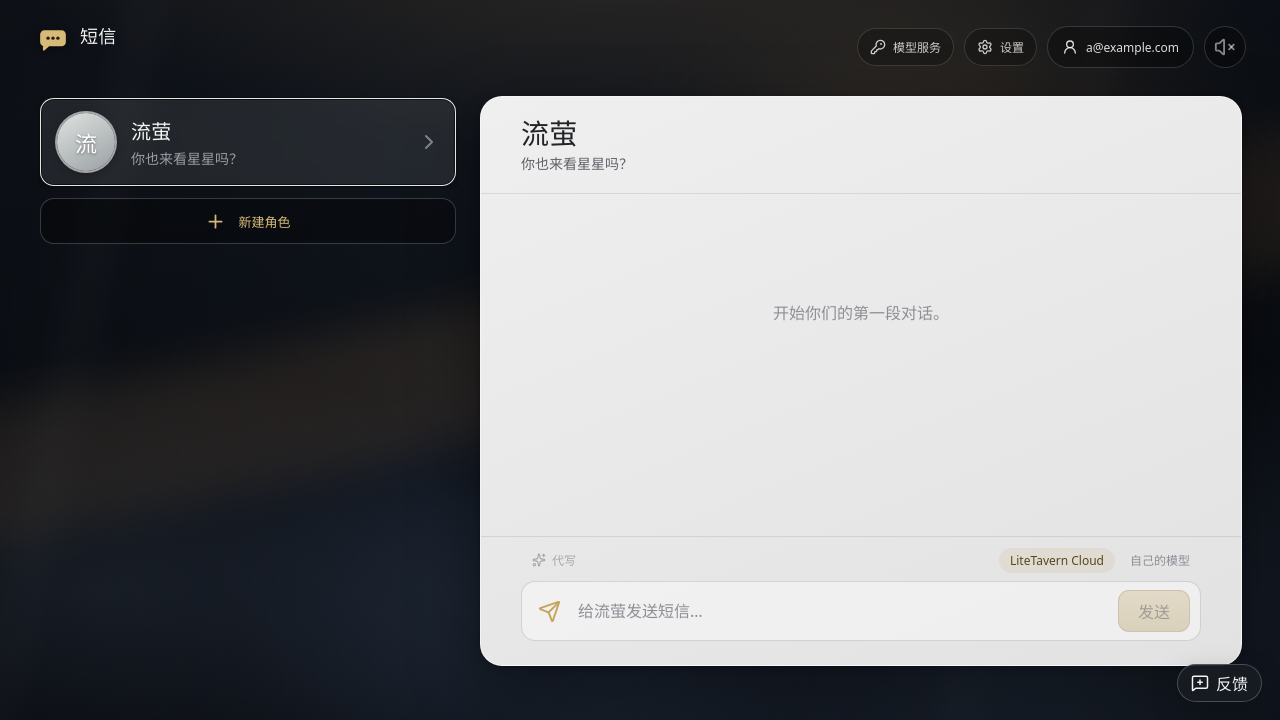
Test: sends again on the refreshed head instead of swallowing the message
In the text box with placeholder "给流萤发送短信…": {"x": 841, "y": 611} [576,597,1106,625], type "你好"
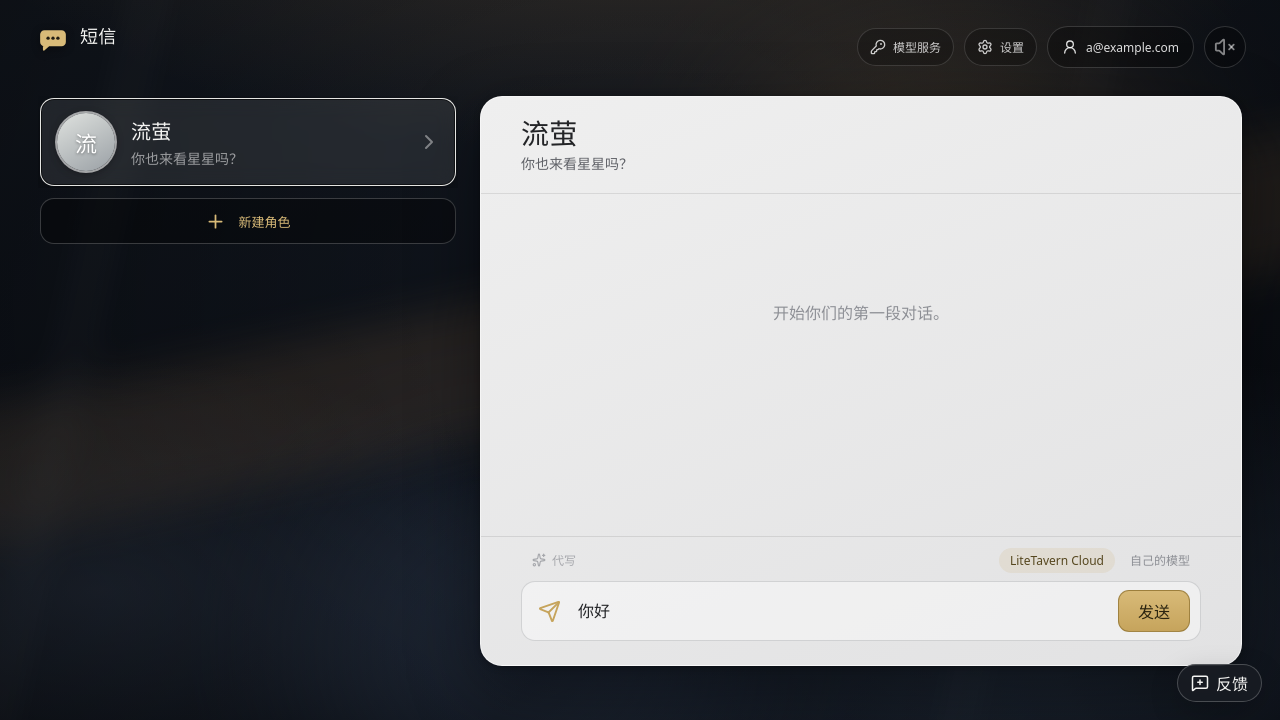
Click the button "发送": {"x": 1154, "y": 611} [1118,590,1190,632]
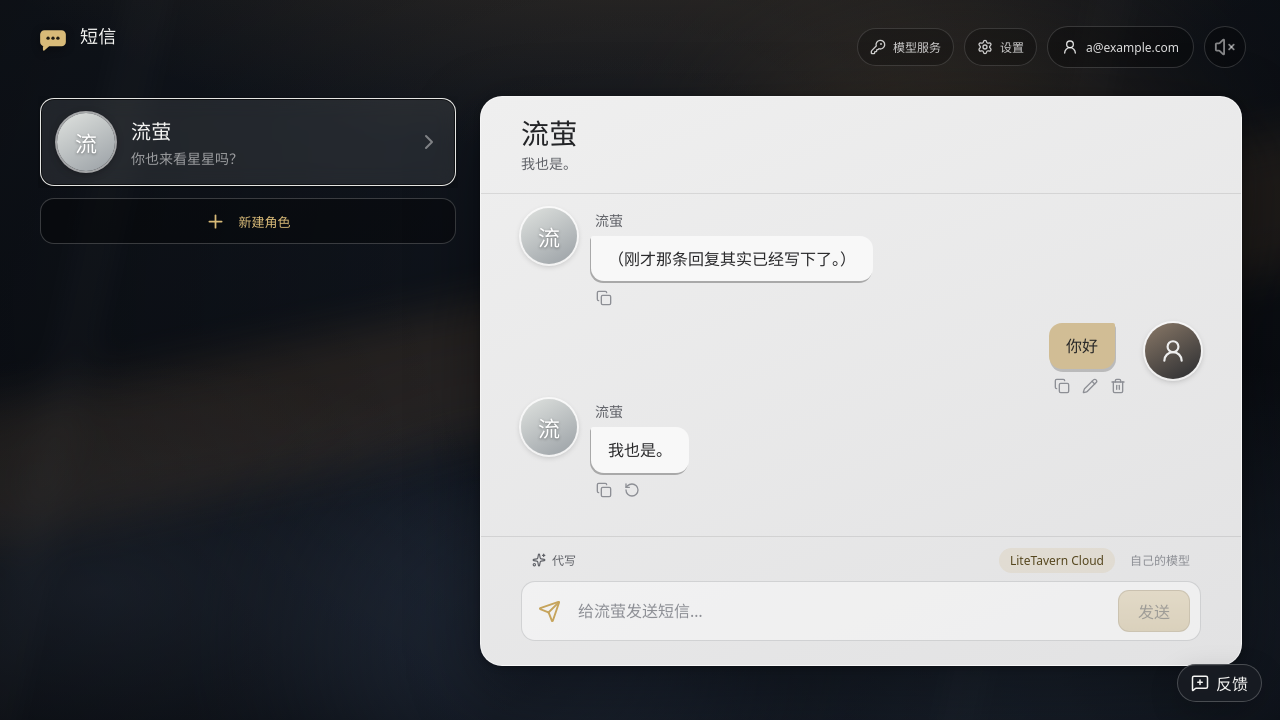
Expected: the text "你好" is shown, [1049,323,1115,369]
Expected: the text "我也是。" below "（刚才那条回复其实已经写下了。）" is shown, [608,439,672,461]
